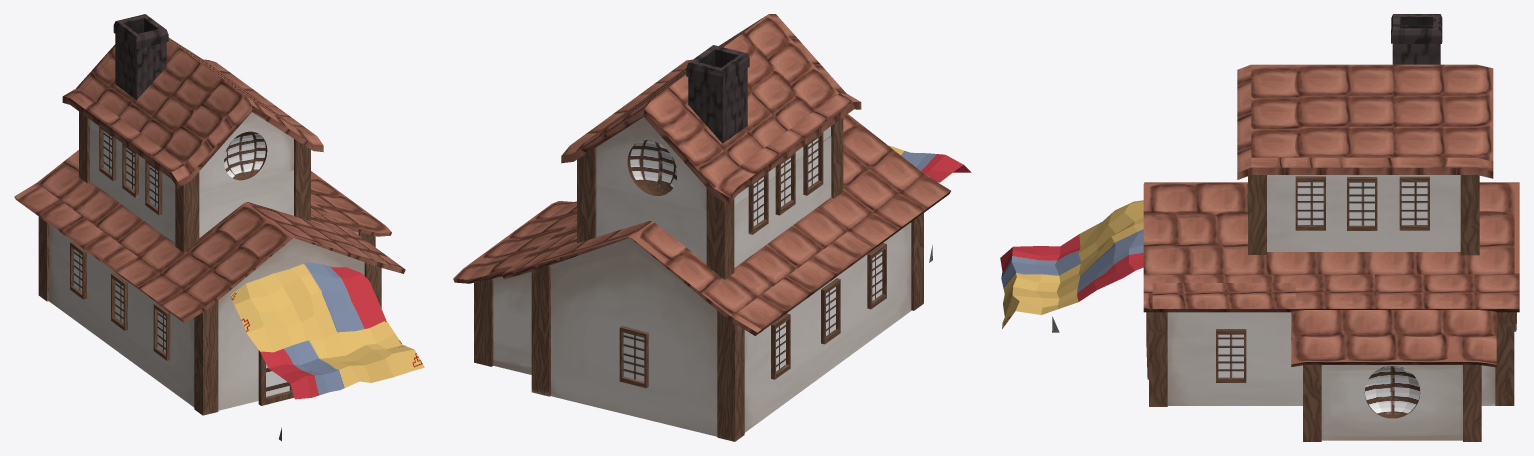
File: Haus_in_progress 1.fbx
The picture shows the model from 3 angles, left to right: view 1: azimuth 30°, elevation 25°; view 2: azimuth 150°, elevation 25°; view 3: azimuth 270°, elevation 25°; orthographic projection. The views are drawn at different scales.
Parts seen in each view (by area): view 1: Cube.013, Cube.001, Cube.023, Cube.004, Cube.002; view 2: Cube.013, Cube.001, Cube.004, Cube.023; view 3: Cube.013, Cube.001, Cube.023, Cube.004.
Part boxes in pixels (x1,y1,x2,y2): Cube.013: (14, 148, 405, 415); Cube.001: (62, 37, 323, 252); Cube.023: (230, 262, 424, 441); Cube.004: (113, 14, 168, 99); Cube.002: (258, 350, 294, 405); Cube.013: (453, 114, 950, 441); Cube.001: (561, 14, 861, 279); Cube.004: (686, 45, 749, 143); Cube.023: (888, 145, 971, 262); Cube.013: (1143, 182, 1519, 441); Cube.001: (1237, 64, 1493, 255); Cube.023: (1000, 200, 1143, 332); Cube.004: (1391, 14, 1442, 64).
Bounding box in the file's own units: 751 × 759 × 1105.
